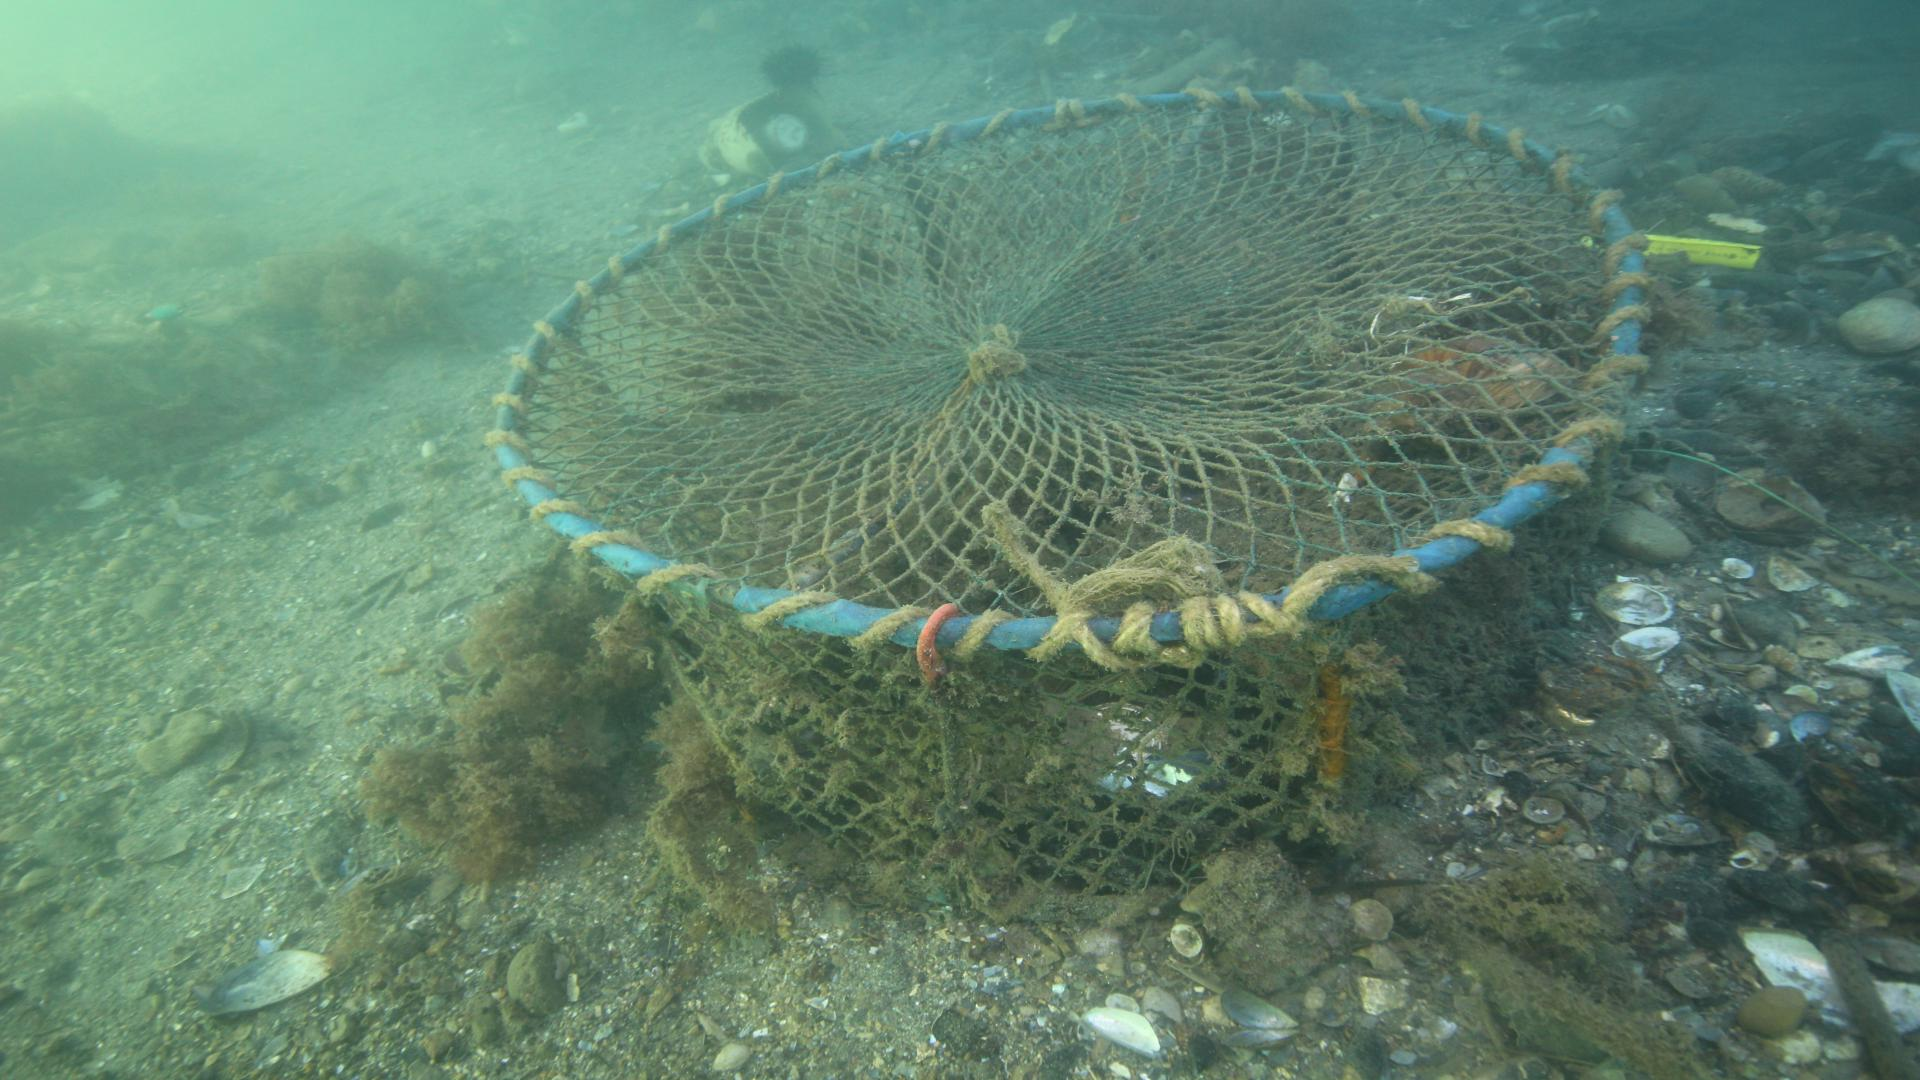circular fish trap: (484, 83, 1654, 918)
